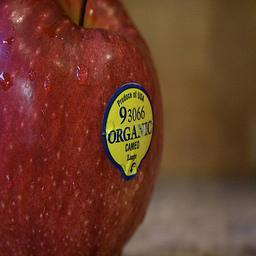apple: (0, 0, 165, 253)
